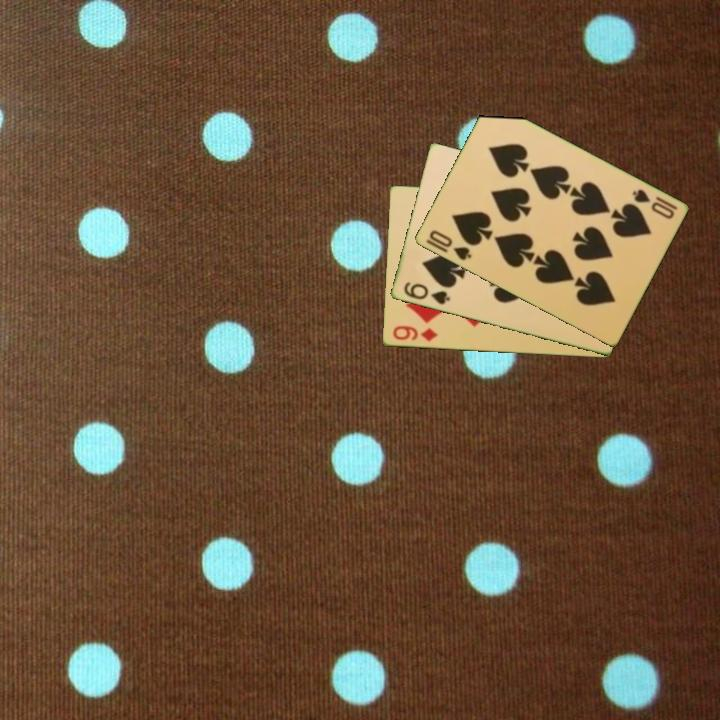10s: (422, 226, 474, 264), (628, 185, 680, 222)
6s: (400, 279, 453, 308)
9d: (389, 322, 440, 345)
